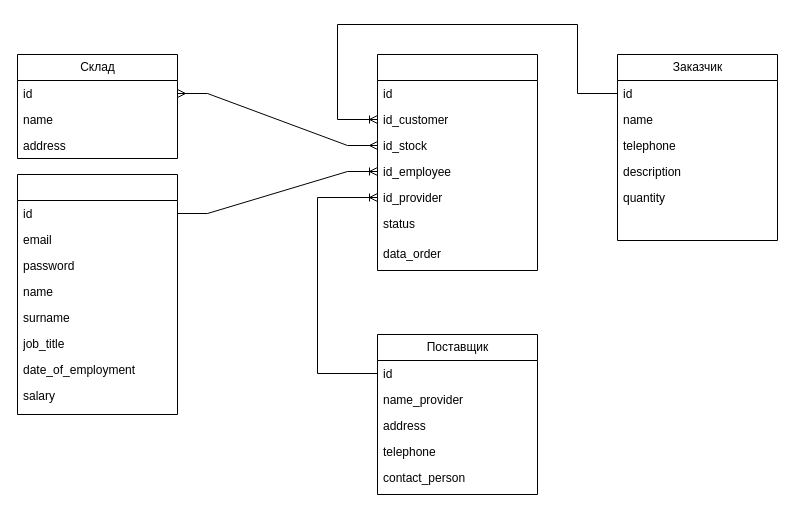
Some shapes in this 795 by 515 pixel diagram are drawn without their labels. Here are the shapes that lost their labels. From the top down, the box of each, then its label:
(376, 54, 538, 270): Заказы
(16, 174, 178, 414): Сотрудники
